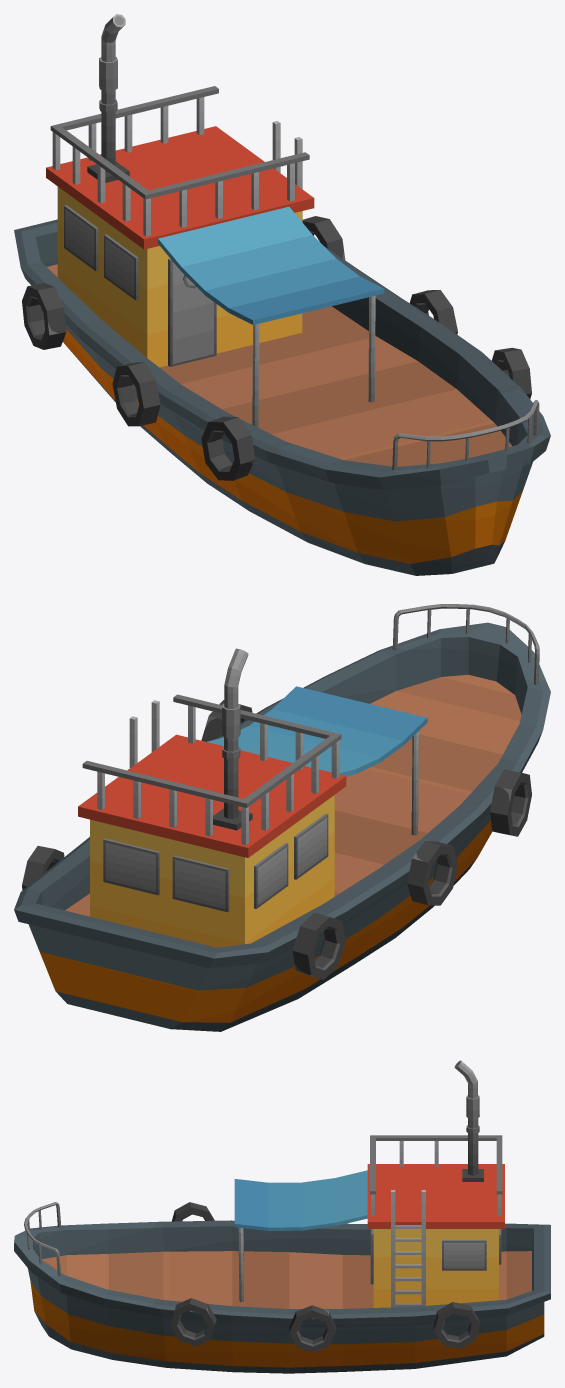
Rendered from fishing_boat.glb.
The picture shows the model from 3 angles, top to bottom: view 1: azimuth 30°, elevation 25°; view 2: azimuth 150°, elevation 25°; view 3: azimuth 270°, elevation 25°; orthographic projection. The views are drawn at different scales.
Visible parts, largest first — view 1: fishing_boat; view 2: fishing_boat; view 3: fishing_boat.
Boxes of the visible parts, x1,y1,x2,y2 form: fishing_boat: [14, 14, 550, 575]; fishing_boat: [14, 604, 550, 1031]; fishing_boat: [14, 1060, 550, 1373].
Bounding box in the file's own units: 1.51 × 1.7 × 3.19.
Materials: 1 (1 with a texture image).
